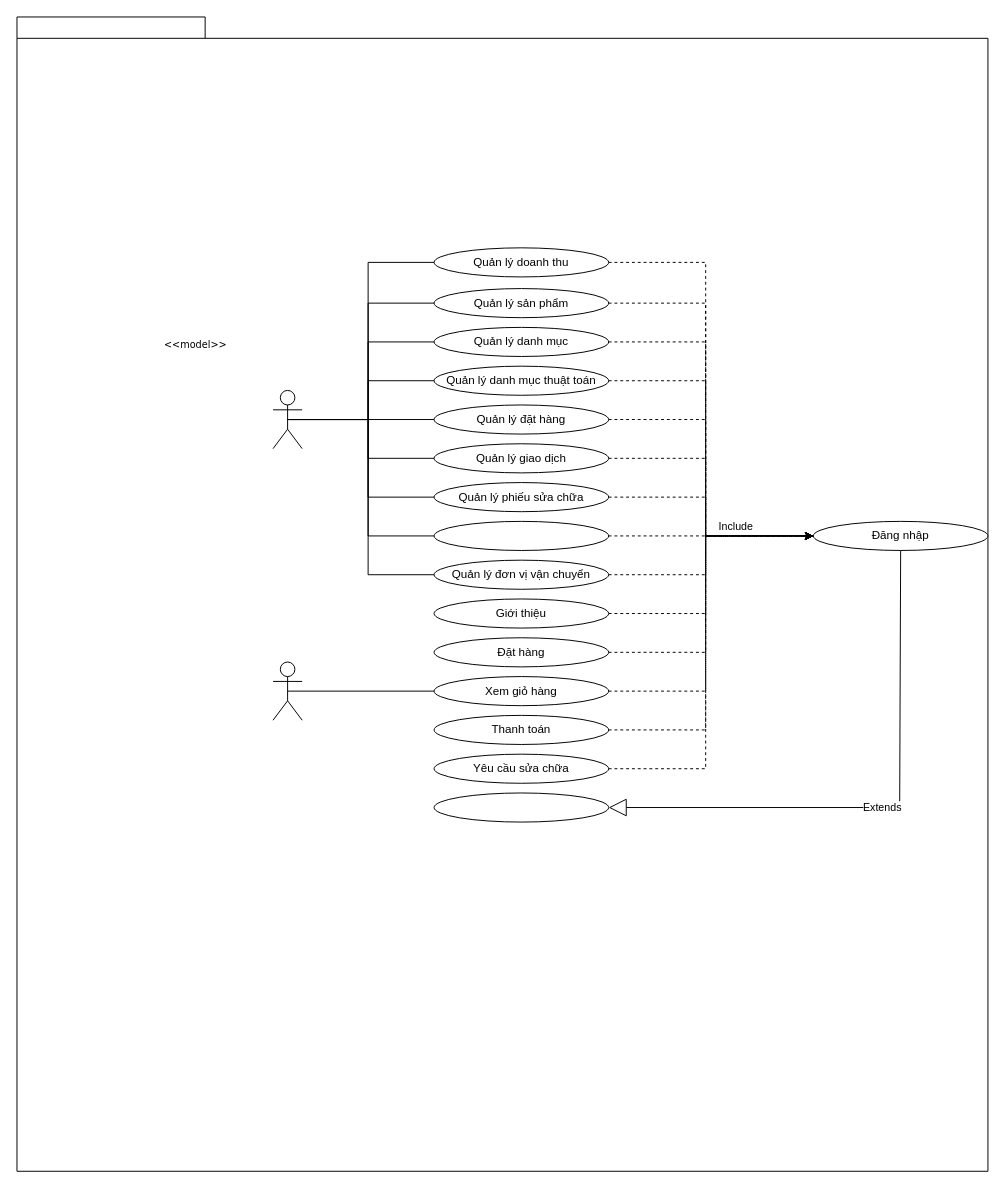
Some shapes in this 1005 by 1188 pixel diagram are drawn without their labels. The shapes that lost their labels are listed below. From the top down, each one's centre as x and y in pixels, then its label:
the point at 287,419: Quản trị viên
the point at 521,535: Quản lý người dùng
the point at 287,690: Khách hàng
the point at 521,807: Tìm kiếm và lọc sản phẩm
